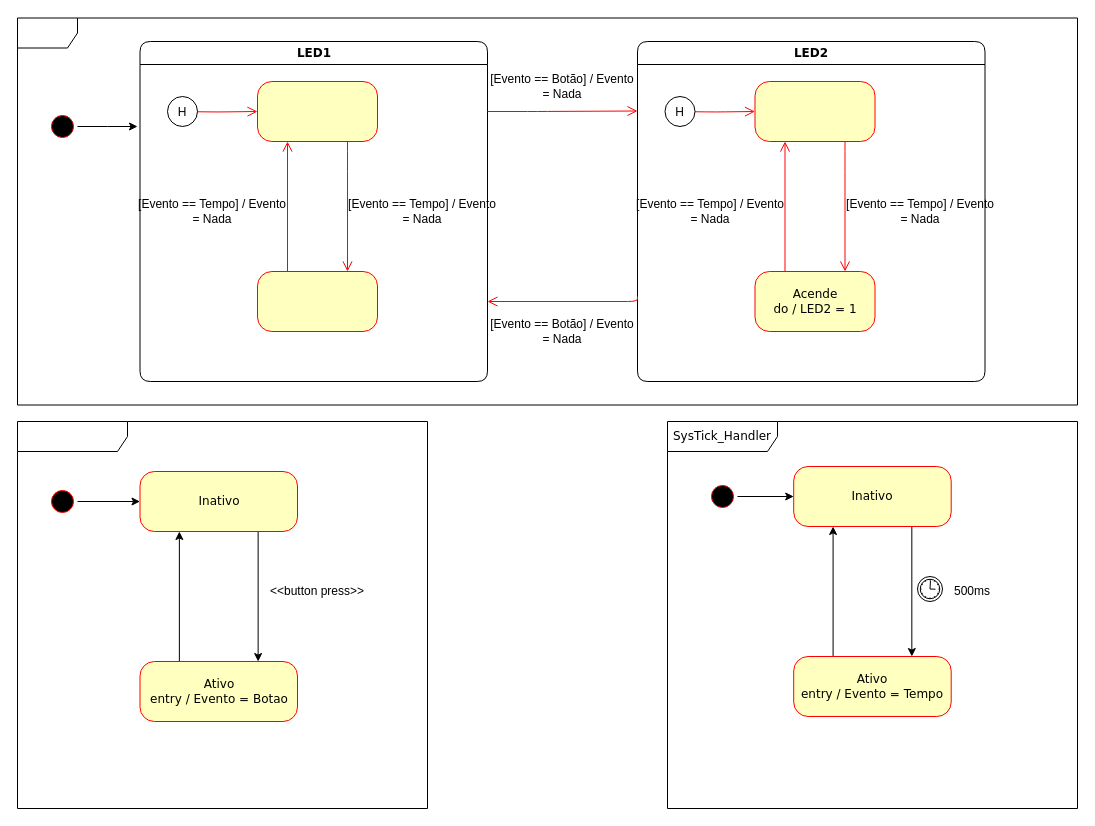
The diagram is 1095 pixels wide and 826 high, and some of its shapes have lost their labels. Here are the shapes that lost their labels. From the top down, the box of each, then its label:
(256, 80, 378, 142): Apaga do / LED1 = 0
(754, 80, 875, 142): Apaga do / LED2 = 0
(16, 17, 1078, 405): main
(256, 270, 378, 332): Acende do / LED1 = 1
(16, 420, 428, 808): GPIOJ_Handler
